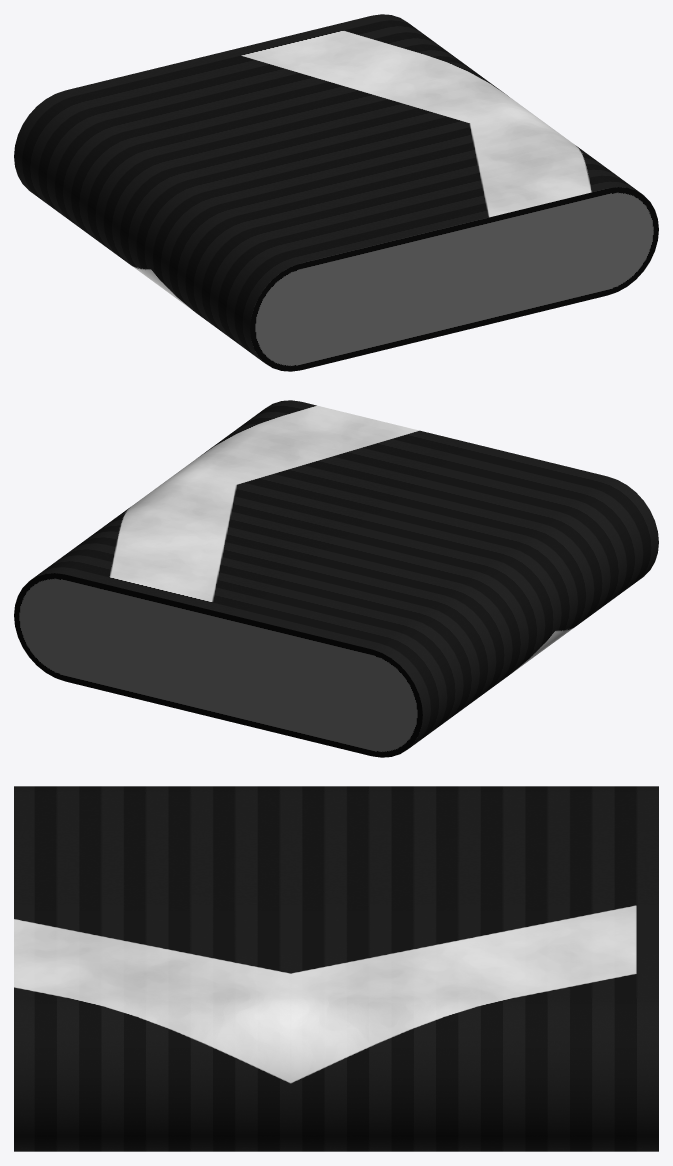
Rendered from ConveyorBelt.fbx.
3 renders of one model, top to bottom at view 1: azimuth 30°, elevation 25°; view 2: azimuth 150°, elevation 25°; view 3: azimuth 270°, elevation 25°, orthographic. The views are drawn at different scales.
Visible parts, largest first — view 1: ConveyorBelt, Side; view 2: ConveyorBelt, Side; view 3: ConveyorBelt.
Part boxes in pixels (<box>): ConveyorBelt: <box>14,14,642,362</box>; Side: <box>250,187,658,371</box>; ConveyorBelt: <box>30,400,658,748</box>; Side: <box>14,573,422,757</box>; ConveyorBelt: <box>14,786,658,1151</box>.
Bounding box in the file's own units: 200 × 50 × 200.
